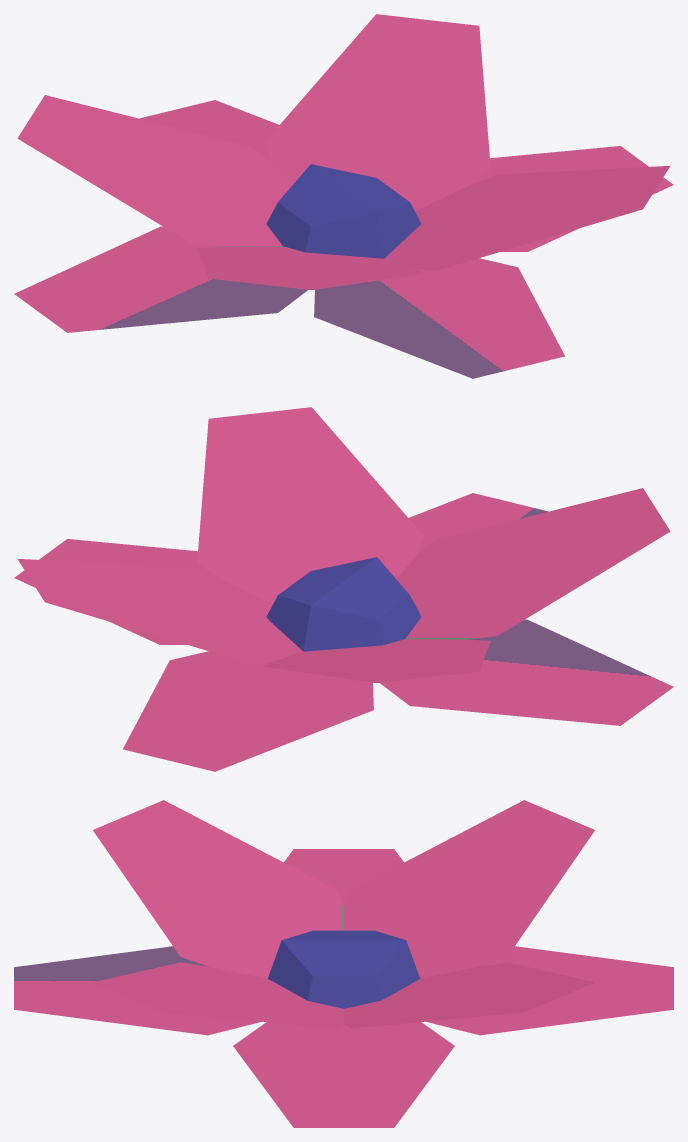
Rendered from SmallFlowerModel.glb.
3 renders of one model, top to bottom at view 1: azimuth 30°, elevation 25°; view 2: azimuth 150°, elevation 25°; view 3: azimuth 270°, elevation 25°, orthographic. The views are drawn at different scales.
Visible parts, largest first — view 1: Cylinder; view 2: Cylinder; view 3: Cylinder.
Boxes of the visible parts, x1=… form: Cylinder: x1=14, y1=14, x2=673, y2=378; Cylinder: x1=14, y1=407, x2=673, y2=771; Cylinder: x1=14, y1=800, x2=673, y2=1127.
Size of the model in its own units: 1.25 by 0.1988 by 1.25.
1 material, 1 textured.
